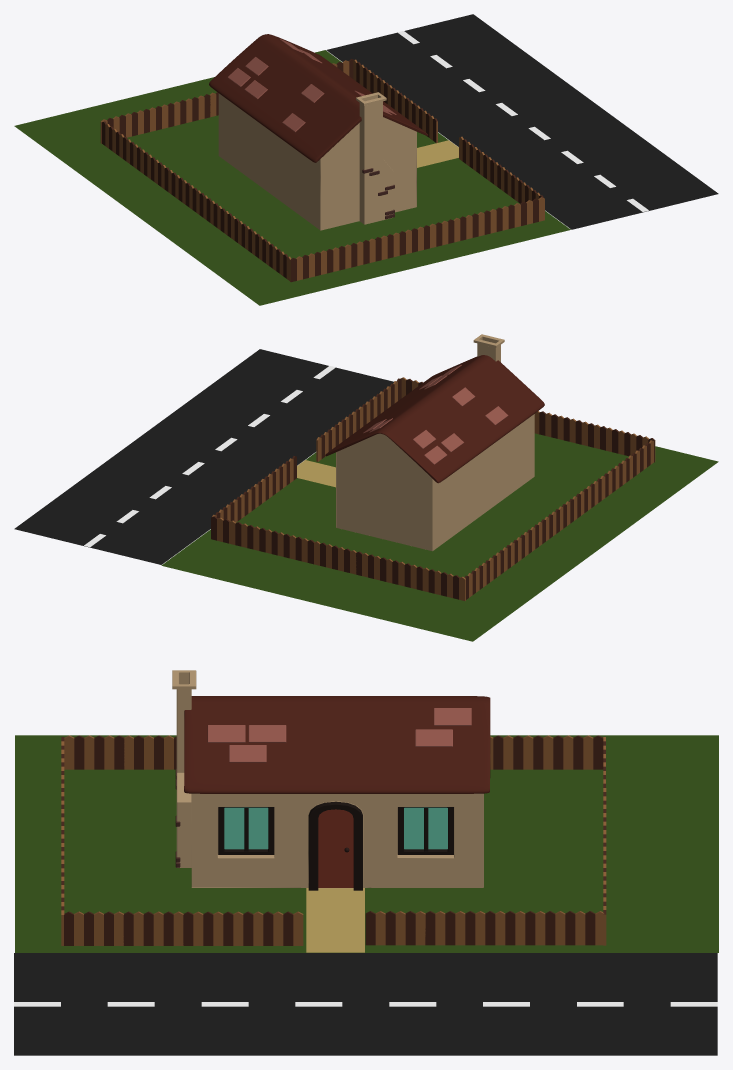
The model's file is HouseAndYard.fbx.
3 renders of one model, top to bottom at view 1: azimuth 30°, elevation 25°; view 2: azimuth 150°, elevation 25°; view 3: azimuth 270°, elevation 25°, orthographic. The views are drawn at different scales.
Parts seen in each view (by area): view 1: Ground, Road, Walls, Roof, RoadLine, Fence.007, Fence.008, Fence.009, Fence.025, Fence.004, Fence.005, Fence.006 (+18 smaller); view 2: Ground, Road, Walls, Roof, RoadLine, Fence.009, Fence.027, Fence.008, Fence.022, Fence.023, Fence.021, Fence.025 (+18 smaller); view 3: Ground, Road, Roof, Walls, HousePath, Door, Fence.011, Fence.018, Fence.019, Fence.030, Fence.017, Fence (+14 smaller).
Boxes of the visible parts, x1,y1,x2,y2 form: Ground: [14, 50, 570, 305]; Road: [326, 14, 718, 229]; Walls: [218, 92, 416, 230]; Roof: [209, 34, 428, 162]; RoadLine: [397, 31, 648, 211]; Fence.007: [399, 223, 436, 255]; Fence.008: [363, 232, 399, 264]; Fence.009: [326, 241, 363, 273]; Fence.025: [173, 94, 210, 125]; Fence.004: [508, 197, 544, 228]; Fence.005: [472, 206, 508, 237]; Fence.006: [435, 215, 472, 246]; Ground: [161, 433, 718, 641]; Road: [14, 349, 393, 564]; Walls: [336, 334, 534, 551]; Roof: [325, 355, 544, 483]; RoadLine: [84, 365, 335, 547]; Fence.009: [581, 421, 618, 453]; Fence.027: [428, 569, 465, 600]; Fence.008: [545, 412, 582, 444]; Fence.022: [247, 525, 284, 556]; Fence.023: [283, 534, 320, 565]; Fence.021: [211, 516, 247, 547]; Fence.025: [356, 551, 392, 583]; Ground: [15, 735, 718, 952]; Road: [14, 953, 717, 1055]; Roof: [184, 696, 490, 793]; Walls: [172, 670, 483, 890]; HousePath: [306, 888, 364, 952]; Door: [318, 809, 353, 887]; Fence.011: [64, 735, 124, 769]; Fence.018: [425, 911, 485, 945]; Fence.019: [485, 911, 545, 945]; Fence.030: [543, 735, 603, 769]; Fence.017: [365, 911, 425, 945]; Fence: [243, 911, 303, 945].
Size of the model in its own units: 2063 by 529 by 1917.
